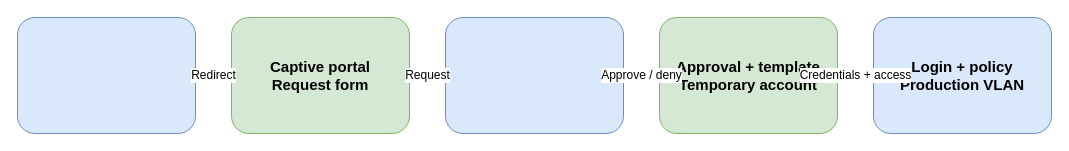
Some shapes in this 1069 by 151 pixel diagram are drawn without their labels. The box of each missing label's shape, as (x1, y1, x2, y2) in pixels:
FortiNAC request Sponsor queue: (444, 16, 624, 134)
Guest endpoint Registration VLAN: (16, 16, 196, 134)
